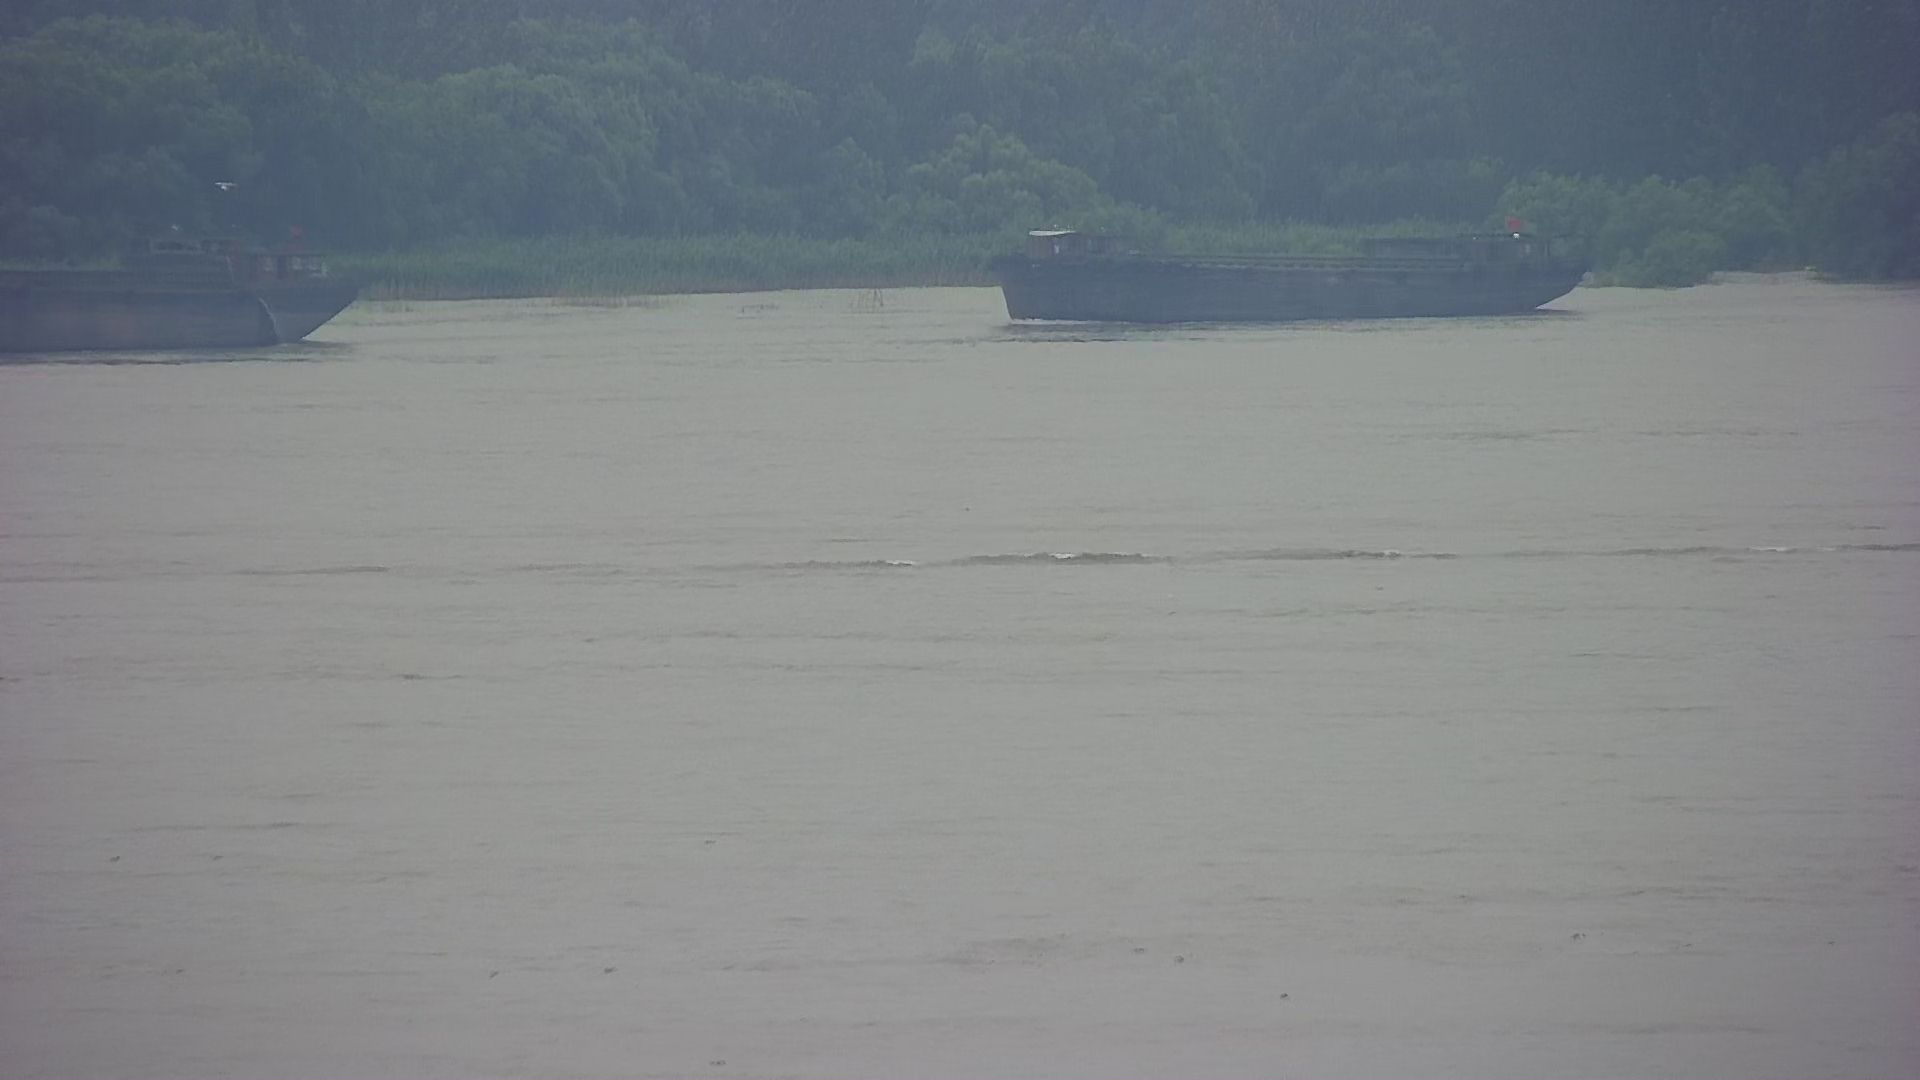ship: (968, 204, 1598, 338), (1, 218, 382, 367)
